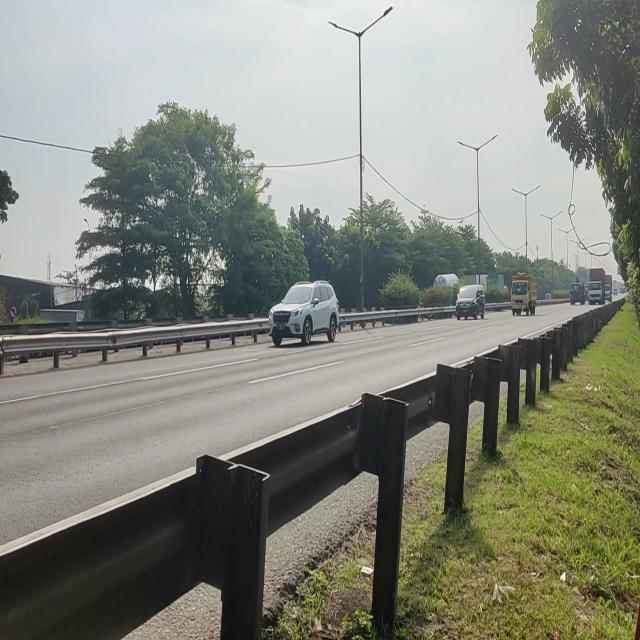Golongan I: (266, 276, 344, 352)
